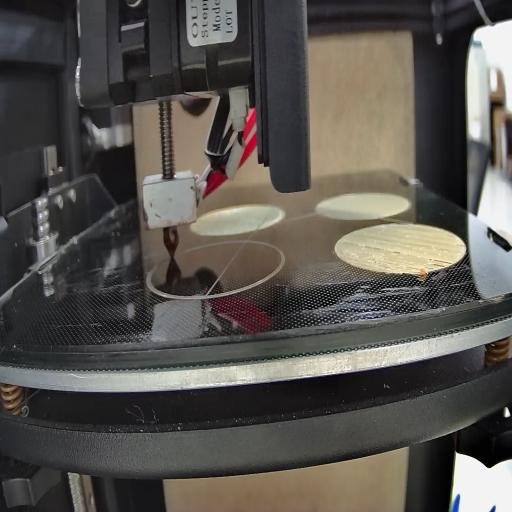under_extrusion: (344, 241, 402, 257), (425, 256, 450, 272), (406, 264, 422, 276), (456, 242, 466, 252)
